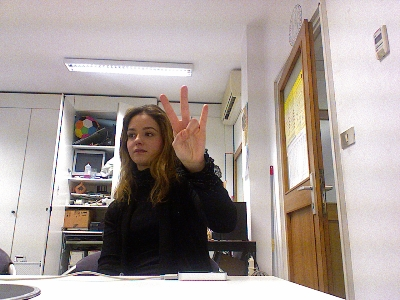观音: (158, 85, 208, 167)
